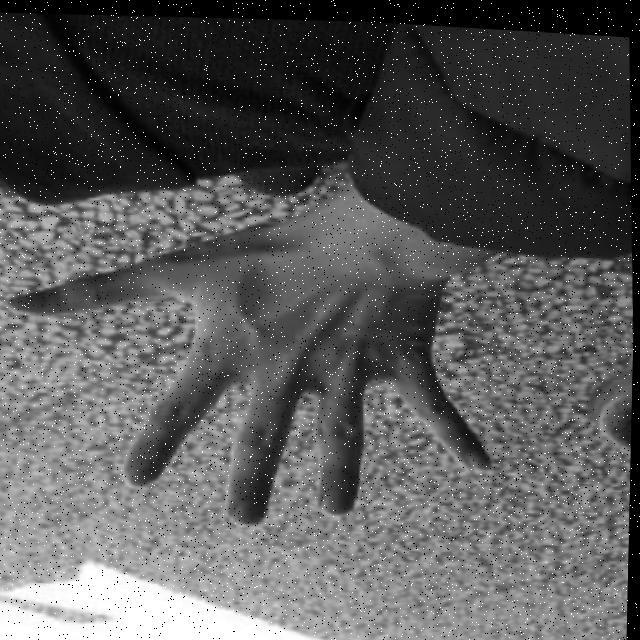no-gloves: (2, 208, 500, 542)
